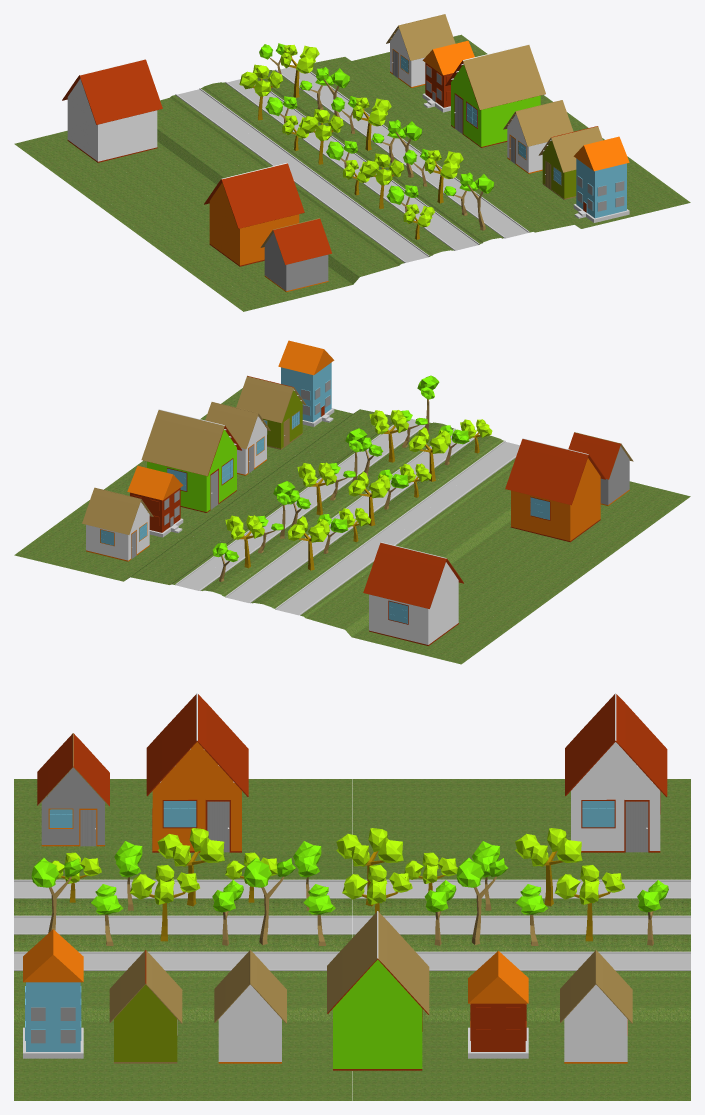
File: Parte_C.fbx
3 renders of one model, top to bottom at view 1: azimuth 30°, elevation 25°; view 2: azimuth 150°, elevation 25°; view 3: azimuth 270°, elevation 25°, orthographic. The views are drawn at different scales.
Parts seen in each view (by area): view 1: G2-CHÃO, G2-CASAS, G3-ARVORES; view 2: G2-CHÃO, G2-CASAS, G3-ARVORES; view 3: G2-CHÃO, G2-CASAS, G3-ARVORES.
Boxes of the visible parts, x1,y1,x2,y2 form: G2-CHÃO: [14, 34, 690, 311]; G2-CASAS: [62, 14, 629, 292]; G3-ARVORES: [239, 43, 494, 239]; G2-CHÃO: [14, 388, 690, 664]; G2-CASAS: [82, 340, 633, 645]; G3-ARVORES: [212, 375, 492, 581]; G2-CHÃO: [14, 779, 690, 1100]; G2-CASAS: [23, 693, 667, 1070]; G3-ARVORES: [31, 828, 668, 945].
Size of the model in its own units: 14400 by 2404 by 12800.
